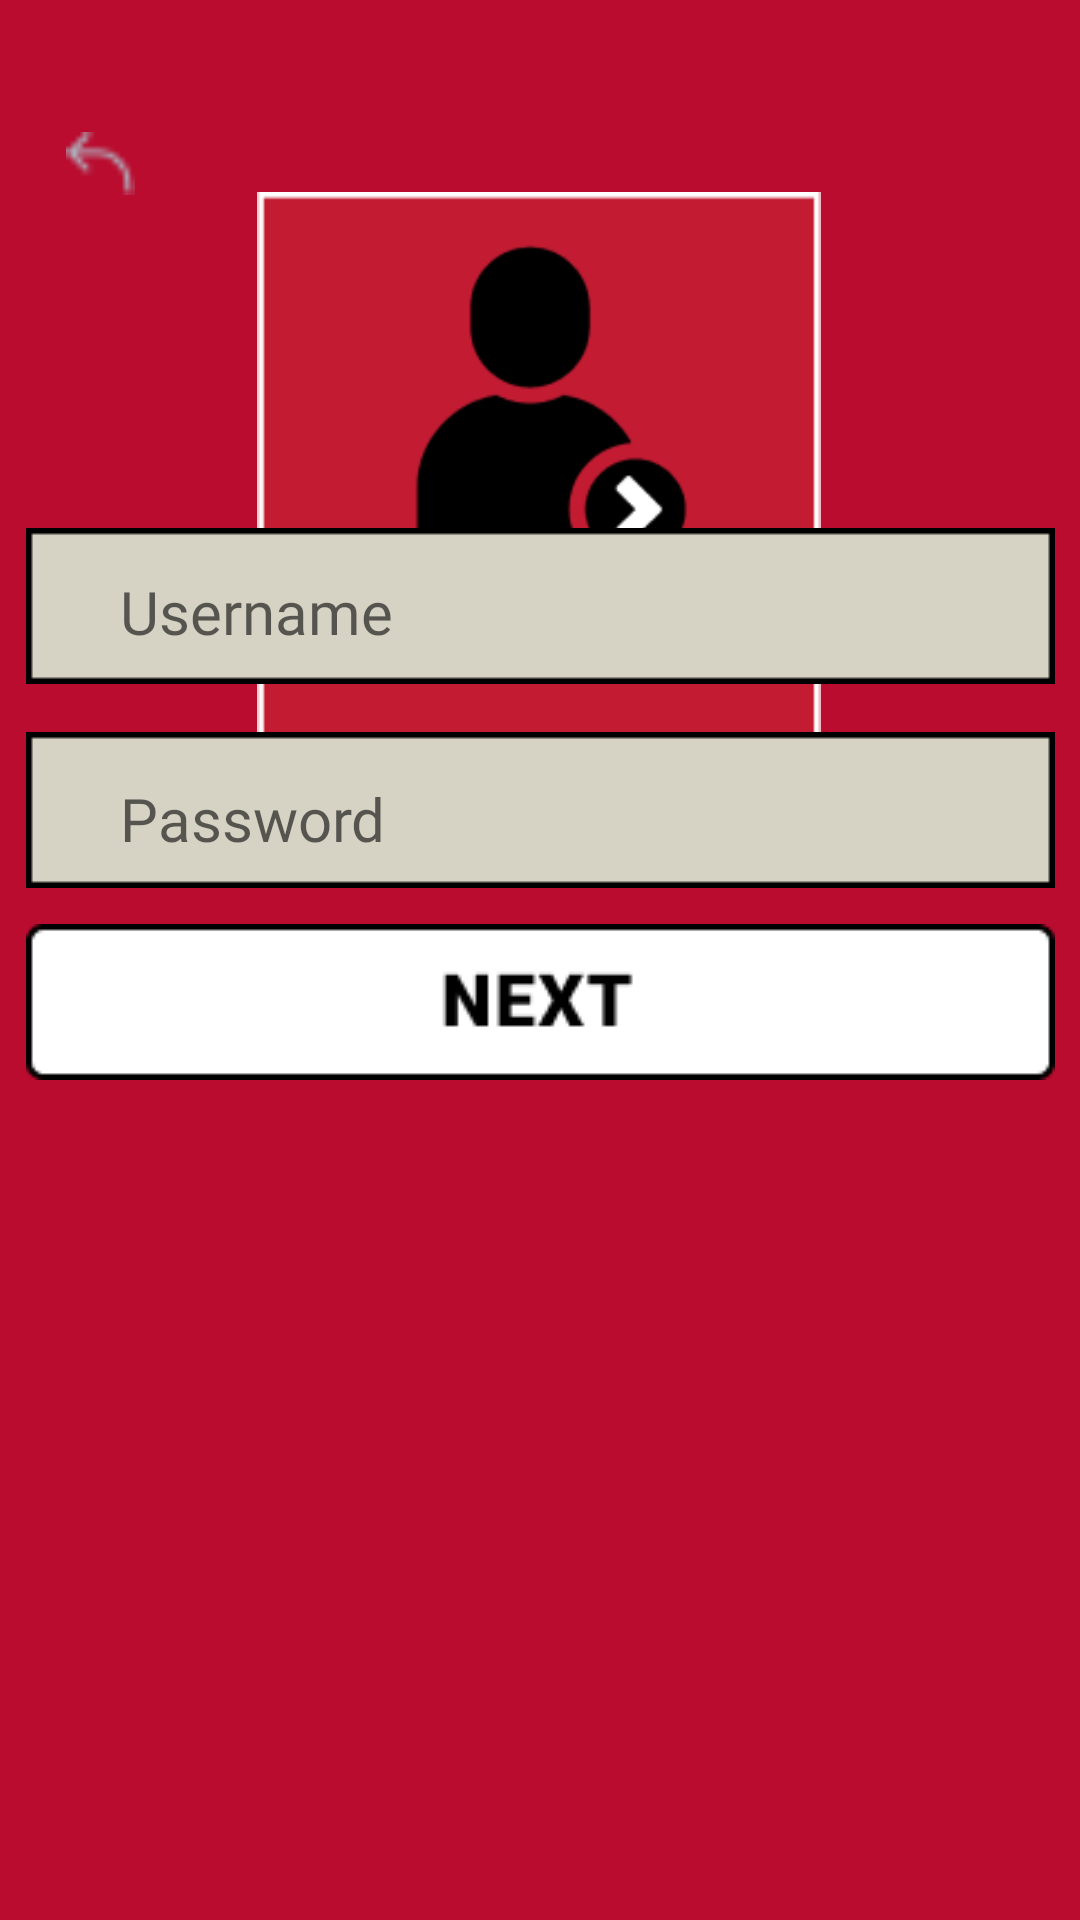

Where to tap for icons on this 1080×1920 app screen, as (x,y):
back: (100,163)
